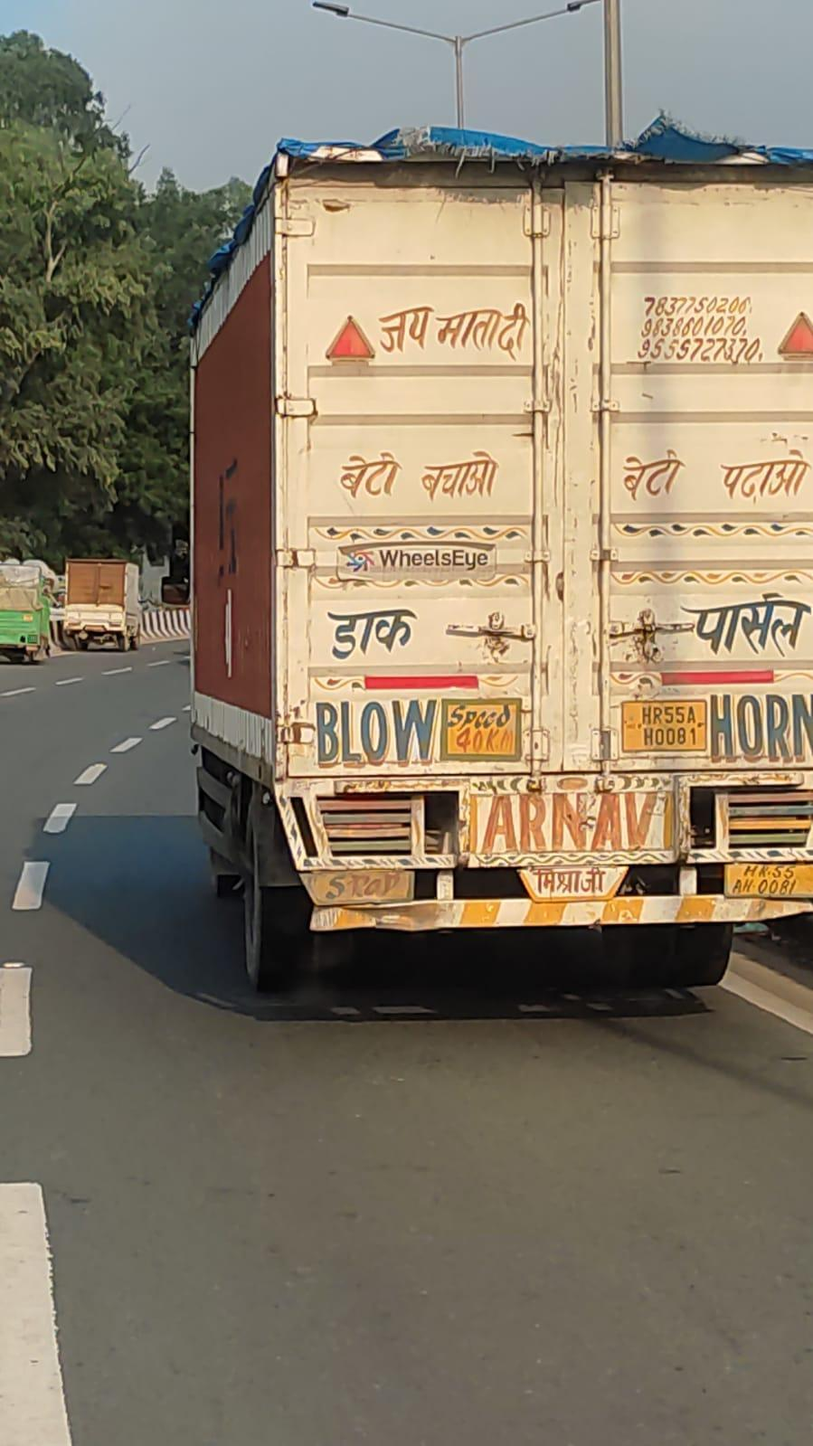truck: (139, 121, 813, 1117)
